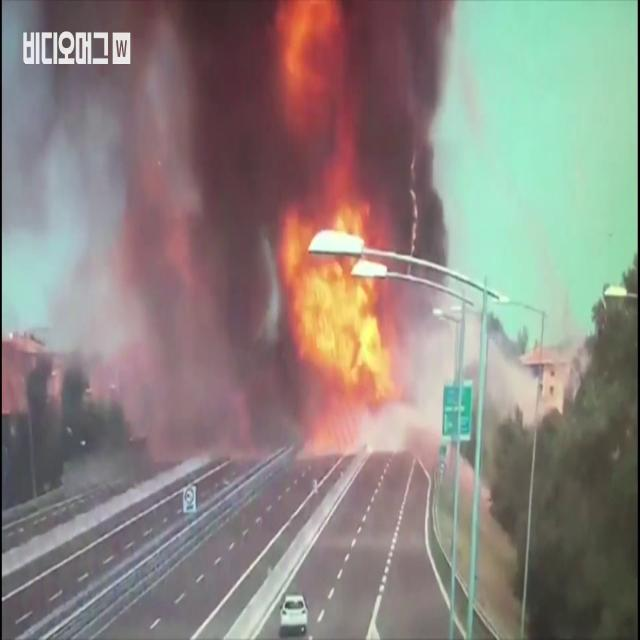explosion: (45, 12, 586, 547)
